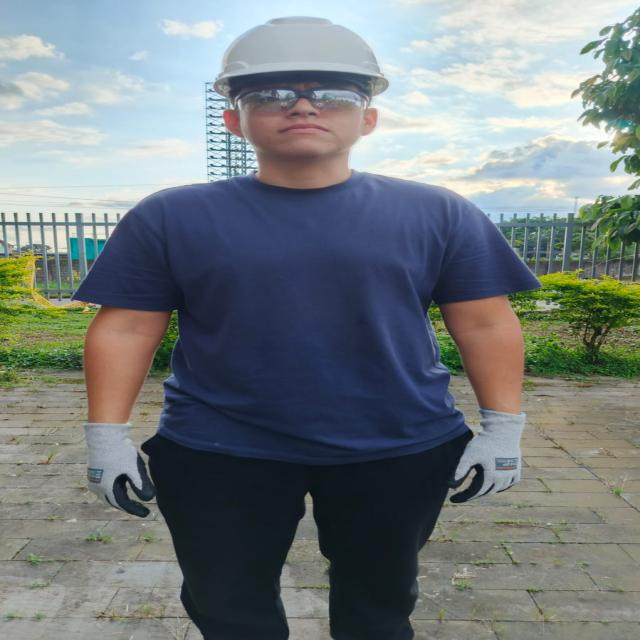gloves: (450, 408, 525, 504), (84, 422, 155, 518)
helmet: (216, 17, 389, 99)
protective_glasses: (234, 87, 369, 112)
